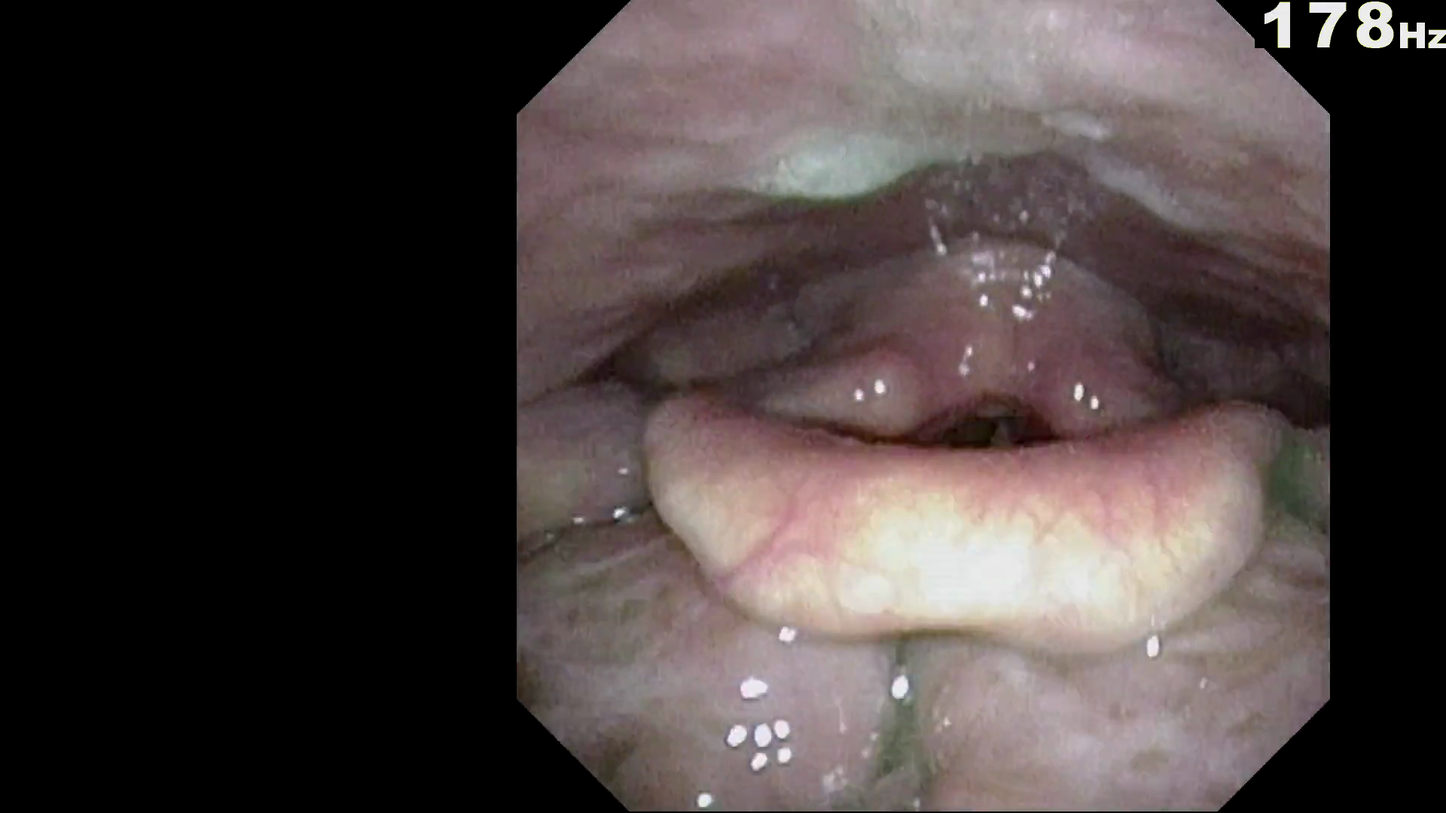epiglottis: (663, 424, 1262, 615)
trachea: (893, 387, 1048, 469)
